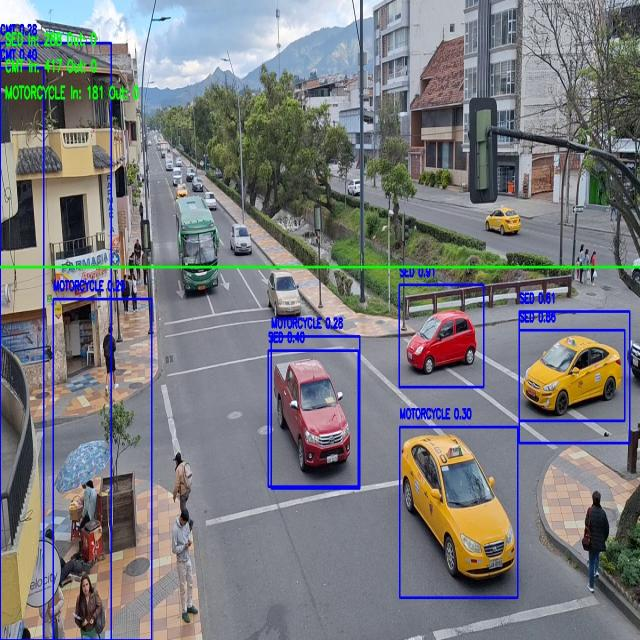BUS: (182, 219, 220, 291)
CMT: (278, 361, 352, 466)
SED: (404, 437, 511, 577), (524, 339, 620, 409), (407, 315, 474, 372), (269, 272, 300, 315), (486, 209, 518, 233), (232, 227, 252, 255)
